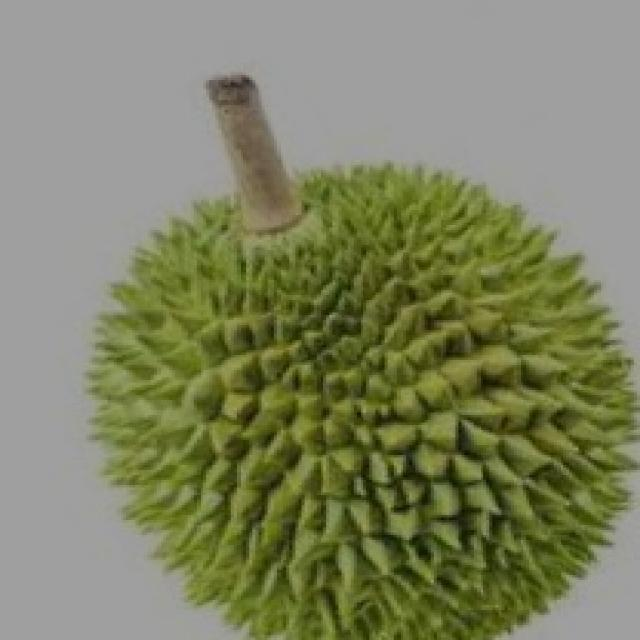fruit: (24, 230, 378, 638), (301, 275, 637, 640)
